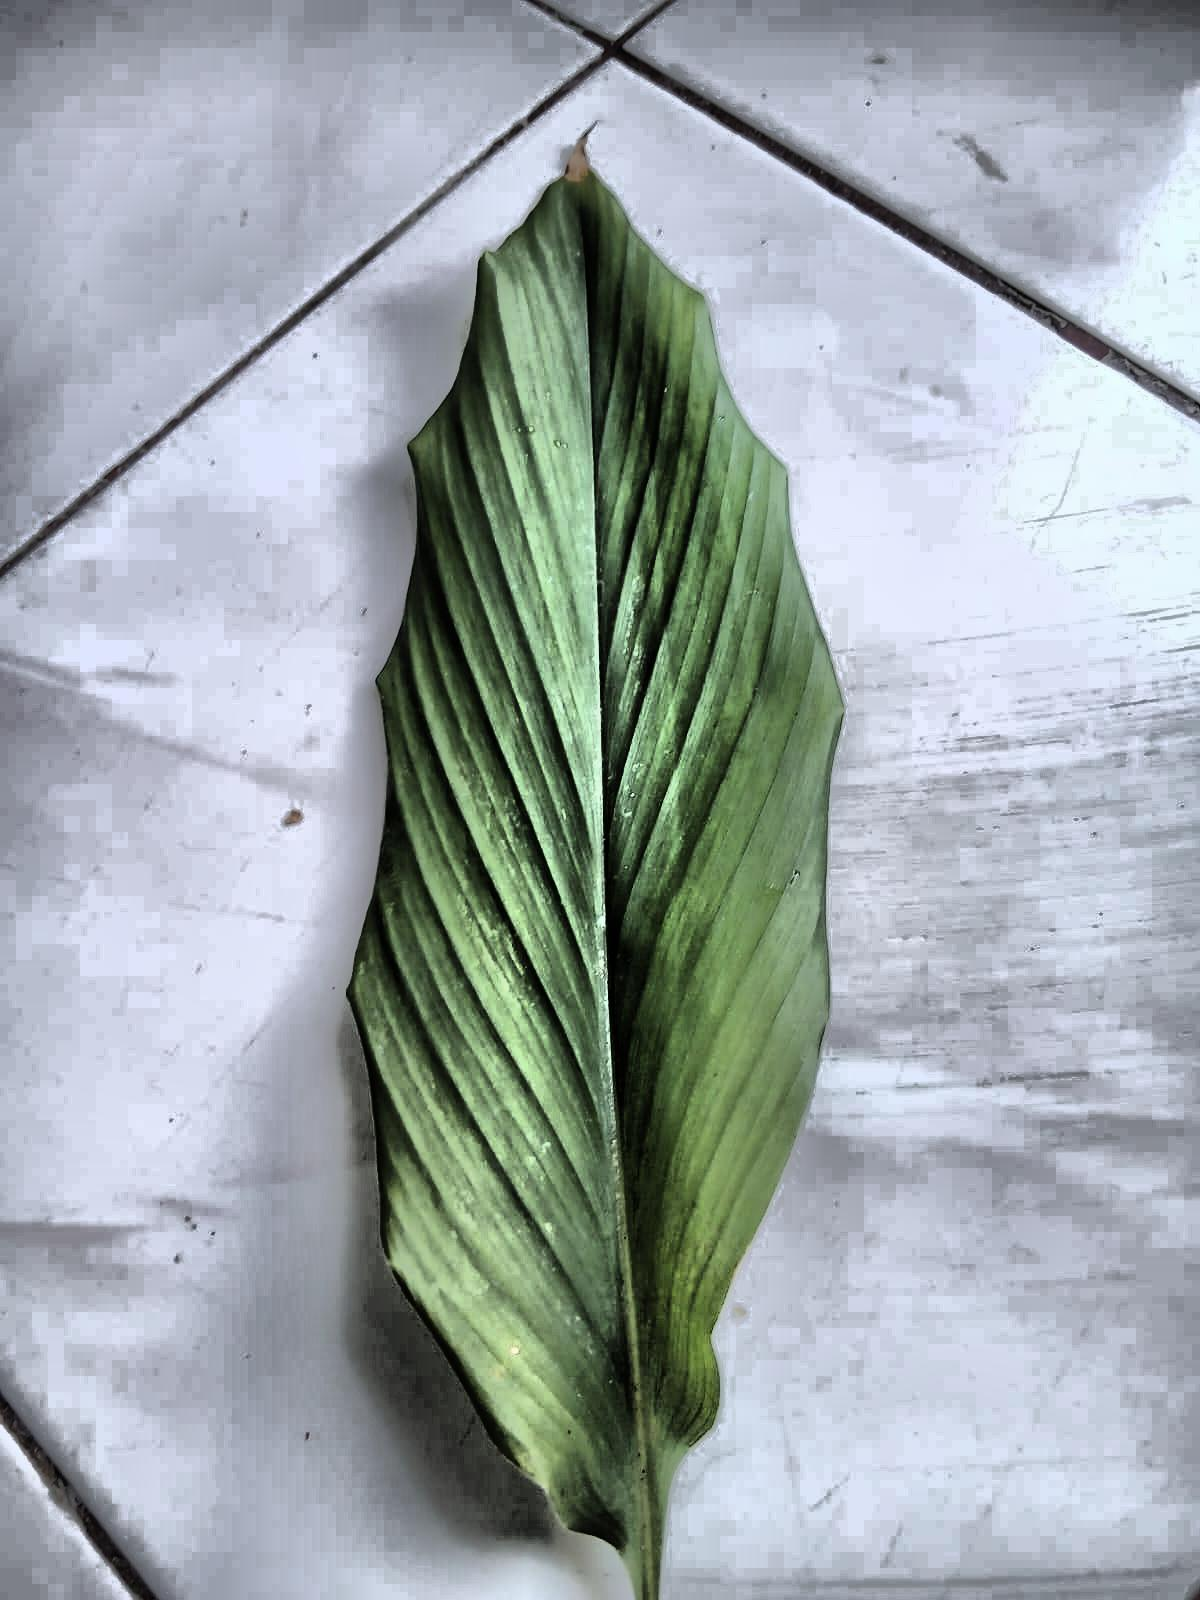daun kunyit: (349, 150, 842, 1599)
